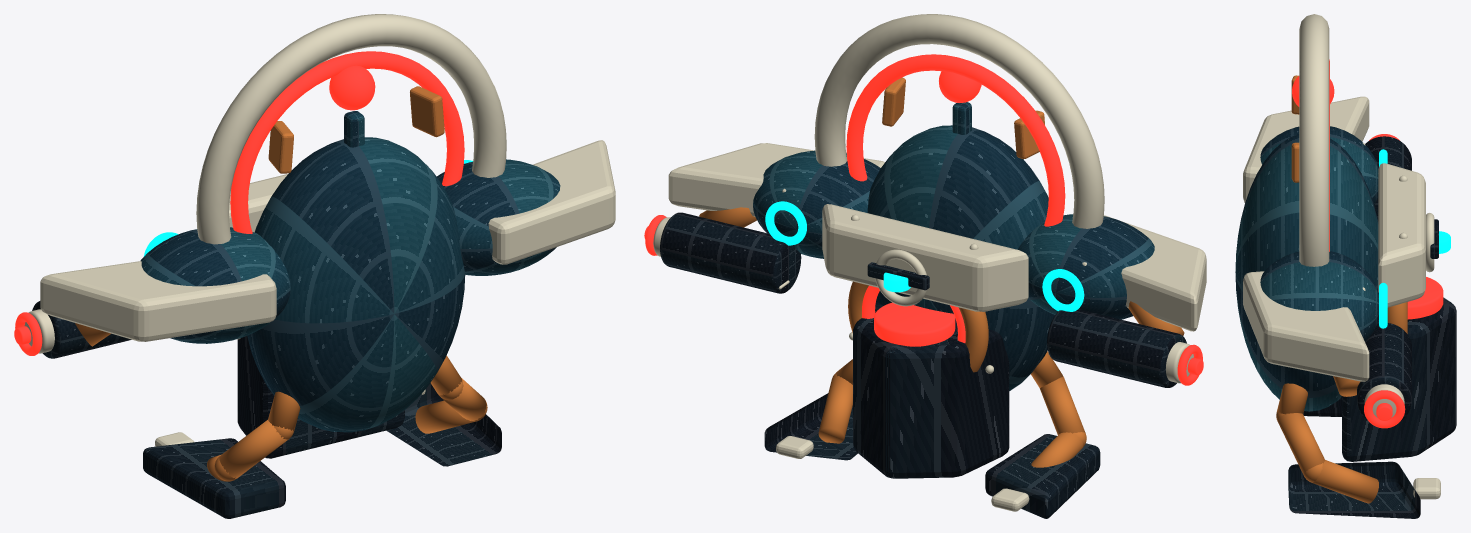
The model's file is pulseTerminalSentry.0d38226c.glb.
3 renders of one model, left to right at view 1: azimuth 30°, elevation 25°; view 2: azimuth 150°, elevation 25°; view 3: azimuth 270°, elevation 25°, orthographic. The views are drawn at different scales.
Visible parts, largest first — view 1: V11 sentry armored reactor thorax, V11 sentry crown load ring, V11 sentry ivory threat wing -1, V11 sentry ivory threat wing 1, V11 sentry shoulder armor pod -1, V11 sentry shoulder armor pod 1, V11 sentry crown threat ring, V11 sentry grounded talon -1, V11 sentry lower reliquary, V11 sentry grounded talon 1, V11 sentry reverse joint leg -1 segment 1, V11 sentry crown warning beacon (+10 smaller); view 2: V11 sentry lower reliquary, V11 sentry armored reactor thorax, V11 sentry crown load ring, V11 sentry forward ceramic brow, V11 sentry shoulder armor pod -1, V11 sentry rotary cannon housing 1, V11 sentry rotary cannon housing -1, V11 sentry shoulder armor pod 1, V11 sentry crown threat ring, V11 sentry ivory threat wing -1, V11 sentry ivory threat wing 1, V11 sentry grounded talon -1 (+19 smaller); view 3: V11 sentry armored reactor thorax, V11 sentry lower reliquary, V11 sentry ivory threat wing 1, V11 sentry crown load ring, V11 sentry forward ceramic brow, V11 sentry shoulder armor pod 1, V11 sentry grounded talon 1, V11 sentry rotary cannon housing 1, V11 sentry ivory threat wing -1, V11 sentry shoulder armor pod -1, V11 sentry reverse joint leg 1 segment 2, V11 sentry reverse joint leg 1 segment 1 (+13 smaller).
Part boxes in pixels (<box>): V11 sentry armored reactor thorax: <box>247,137,465,432</box>; V11 sentry crown load ring: <box>196,14,506,244</box>; V11 sentry ivory threat wing -1: <box>40,261,276,341</box>; V11 sentry ivory threat wing 1: <box>488,140,615,264</box>; V11 sentry shoulder armor pod -1: <box>140,227,290,343</box>; V11 sentry shoulder armor pod 1: <box>437,159,560,275</box>; V11 sentry crown threat ring: <box>230,51,464,233</box>; V11 sentry grounded talon -1: <box>143,438,285,518</box>; V11 sentry lower reliquary: <box>237,336,404,458</box>; V11 sentry grounded talon 1: <box>386,383,501,466</box>; V11 sentry reverse joint leg -1 segment 1: <box>219,420,288,478</box>; V11 sentry crown warning beacon: <box>329,65,375,110</box>; V11 sentry lower reliquary: <box>853,302,1009,478</box>; V11 sentry armored reactor thorax: <box>867,125,1054,390</box>; V11 sentry crown load ring: <box>814,14,1104,228</box>; V11 sentry forward ceramic brow: <box>822,204,1028,311</box>; V11 sentry shoulder armor pod -1: <box>1018,214,1154,319</box>; V11 sentry rotary cannon housing 1: <box>660,212,801,293</box>; V11 sentry rotary cannon housing -1: <box>1047,309,1186,387</box>; V11 sentry shoulder armor pod 1: <box>753,150,880,258</box>; V11 sentry crown threat ring: <box>846,54,1065,226</box>; V11 sentry ivory threat wing -1: <box>1104,215,1206,331</box>; V11 sentry ivory threat wing 1: <box>668,143,884,216</box>; V11 sentry grounded talon -1: <box>985,434,1100,518</box>; V11 sentry armored reactor thorax: <box>1235,134,1378,411</box>; V11 sentry lower reliquary: <box>1342,297,1456,461</box>; V11 sentry ivory threat wing 1: <box>1243,271,1369,381</box>; V11 sentry crown load ring: <box>1299,14,1329,266</box>; V11 sentry forward ceramic brow: <box>1378,163,1425,307</box>; V11 sentry shoulder armor pod 1: <box>1260,251,1378,341</box>; V11 sentry grounded talon 1: <box>1288,461,1420,518</box>; V11 sentry rotary cannon housing 1: <box>1357,323,1411,420</box>; V11 sentry ivory threat wing -1: <box>1243,96,1369,202</box>; V11 sentry shoulder armor pod -1: <box>1260,126,1378,205</box>; V11 sentry reverse joint leg 1 segment 2: <box>1312,460,1378,503</box>; V11 sentry reverse joint leg 1 segment 1: <box>1277,413,1324,474</box>.
Bounding box in the file's own units: 5.02 × 3.74 × 1.76.
Materials: 6 (2 with a texture image).
